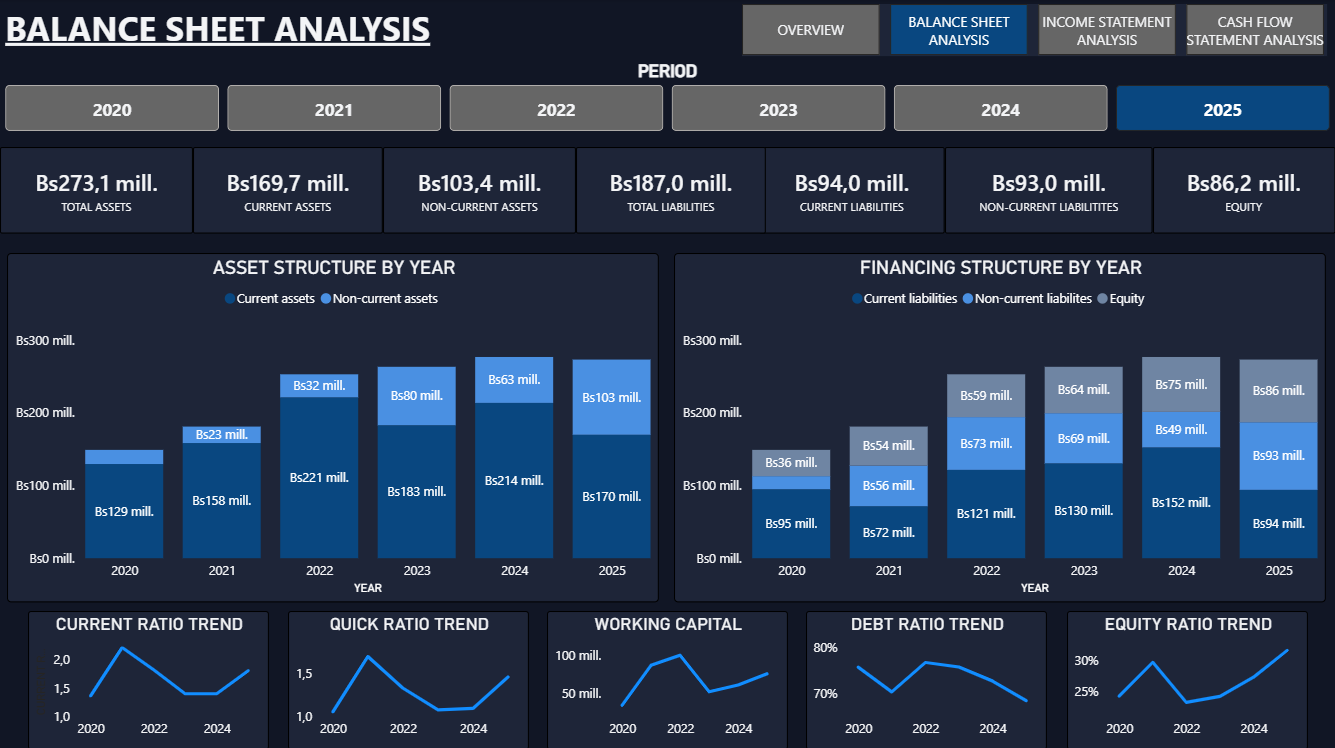

Layout of this report page (visuals, bound fields, positions):
{"tool":"powerbi","page":{"name":"BALANCE SHEET ANALYSIS","canvas":[1280,720],"ordinal":1},"visuals":[{"type":"cardVisual","fields":{"Data":["MEDIDAS.Total Activo Corriente"]},"box":[185,141.9,182.2,83.4],"z":0},{"type":"cardVisual","fields":{"Data":["MEDIDAS.Total Activo no Corriente"]},"box":[367.2,141.9,185,83.4],"z":1000},{"type":"cardVisual","fields":{"Data":["MEDIDAS.Current liabilities"]},"box":[727.7,141.9,178.3,83.4],"z":2000},{"type":"cardVisual","fields":{"Data":["MEDIDAS.Non-current liabilites"]},"box":[906.1,141.9,199.4,83.4],"z":3000},{"type":"cardVisual","fields":{"Data":["MEDIDAS.Equity"]},"box":[1105.5,141.9,174.5,83.4],"z":4000},{"type":"cardVisual","fields":{"Data":["MEDIDAS.Total Activo"]},"box":[0,141.9,185,83.4],"z":5000},{"type":"cardVisual","fields":{"Data":["MEDIDAS.Total pasivo"]},"box":[552.3,141.9,182.2,83.4],"z":6000},{"type":"columnChart","title":"FINANCING STRUCTURE BY YEAR","fields":{"Category":["DimFecha.Año"],"Y":["MEDIDAS.Current liabilities","MEDIDAS.Non-current liabilites","MEDIDAS.Equity"]},"box":[646.2,243.5,625.1,334.6],"z":7000},{"type":"columnChart","title":"ASSET STRUCTURE BY YEAR","fields":{"Category":["DimFecha.Año"],"Y":["MEDIDAS.Total Activo Corriente","MEDIDAS.Total Activo no Corriente"]},"box":[6.7,243.5,625.1,334.6],"z":8000},{"type":"advancedSlicerVisual","title":"PERIOD","fields":{"Values":["DimFecha.Año"]},"box":[0,58.8,1280,73.5],"z":9000},{"type":"textbox","box":[0,0,418,58.5],"z":10000},{"type":"lineChart","title":"CURRENT RATIO TREND","fields":{"Category":["DimFecha.Año"],"Y":["DimCategoria.CURRENT RATIO TREND"]},"box":[26.8,586.8,231.1,133.3],"z":11000},{"type":"lineChart","title":"QUICK RATIO TREND","fields":{"Category":["DimFecha.Año"],"Y":["DimCategoria.QUICK RATIO TREND"]},"box":[276.1,586.8,231.1,133.3],"z":12000},{"type":"lineChart","title":"WORKING CAPITAL","fields":{"Category":["DimFecha.Año"],"Y":["MEDIDAS.Working capital"]},"box":[524.5,586.8,231.1,133.3],"z":13000},{"type":"lineChart","title":"DEBT RATIO TREND","fields":{"Category":["DimFecha.Año"],"Y":["DimCategoria.DEBT RATIO TREND"]},"box":[772.8,586.8,231.1,133.3],"z":14000},{"type":"lineChart","title":"EQUITY RATIO TREND","fields":{"Category":["DimFecha.Año"],"Y":["DimCategoria.EQUITY RATIO TREND"]},"box":[1023,586.8,231.1,133.3],"z":15000},{"type":"pageNavigator","box":[711.4,4.8,560.9,49.9],"z":16000}]}

Visuals, with their boxes in screenshot pixels (x1, y1, x2, y2), scaled from the page's 1280x720 canvas onto the 1335x748 screenshot:
cardVisual - MEDIDAS.Total Activo Corriente: <region>193, 147, 383, 234</region>
cardVisual - MEDIDAS.Total Activo no Corriente: <region>383, 147, 576, 234</region>
cardVisual - MEDIDAS.Current liabilities: <region>759, 147, 945, 234</region>
cardVisual - MEDIDAS.Non-current liabilites: <region>945, 147, 1153, 234</region>
cardVisual - MEDIDAS.Equity: <region>1153, 147, 1334, 234</region>
cardVisual - MEDIDAS.Total Activo: <region>0, 147, 193, 234</region>
cardVisual - MEDIDAS.Total pasivo: <region>576, 147, 766, 234</region>
"FINANCING STRUCTURE BY YEAR" columnChart: <region>674, 253, 1326, 601</region>
"ASSET STRUCTURE BY YEAR" columnChart: <region>7, 253, 659, 601</region>
"PERIOD" advancedSlicerVisual: <region>0, 61, 1334, 137</region>
textbox: <region>0, 0, 436, 61</region>
"CURRENT RATIO TREND" lineChart: <region>28, 610, 269, 747</region>
"QUICK RATIO TREND" lineChart: <region>288, 610, 529, 747</region>
"WORKING CAPITAL" lineChart: <region>547, 610, 788, 747</region>
"DEBT RATIO TREND" lineChart: <region>806, 610, 1047, 747</region>
"EQUITY RATIO TREND" lineChart: <region>1067, 610, 1308, 747</region>
pageNavigator: <region>742, 5, 1327, 57</region>
